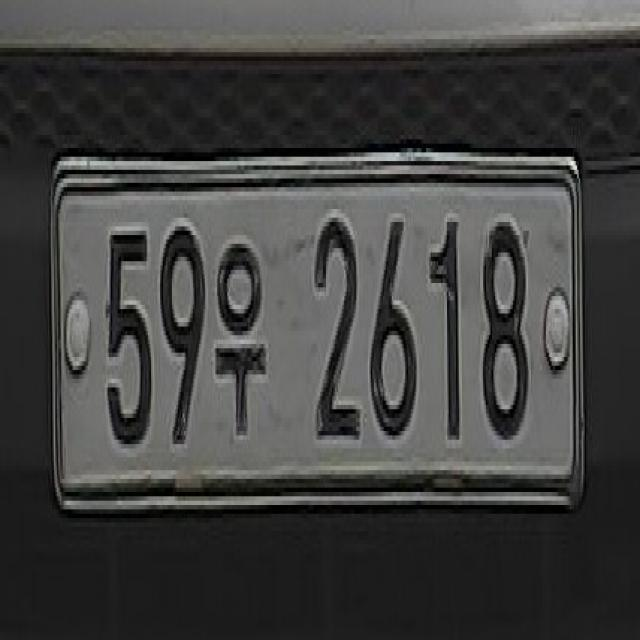1: (424, 198, 474, 457)
2: (308, 188, 363, 464)
5: (101, 208, 155, 457)
6: (366, 201, 420, 452)
8: (478, 201, 534, 448)
9: (158, 202, 209, 458)
license_plate: (42, 124, 588, 525)
u: (213, 204, 268, 456)
